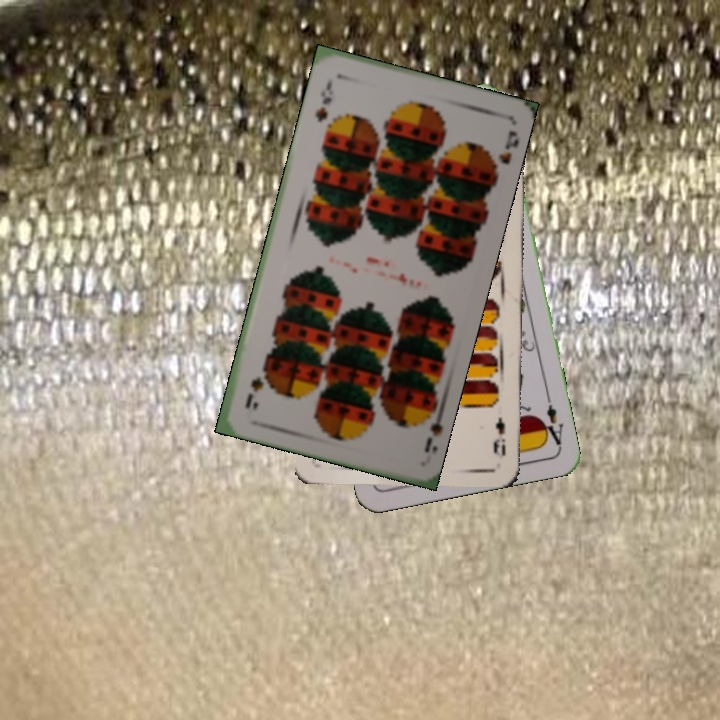E9: (489, 413, 508, 458)
EA: (537, 392, 566, 450)
S9: (420, 402, 448, 456), (311, 75, 336, 125)
